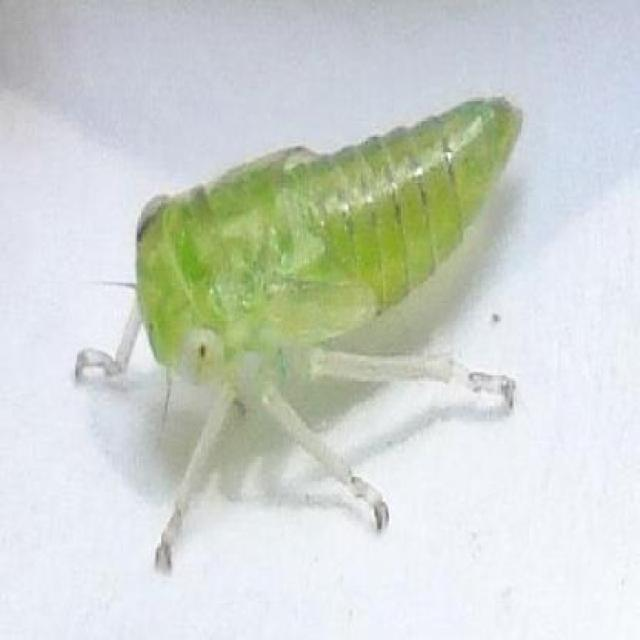green-leafhopper: (76, 86, 532, 580)
